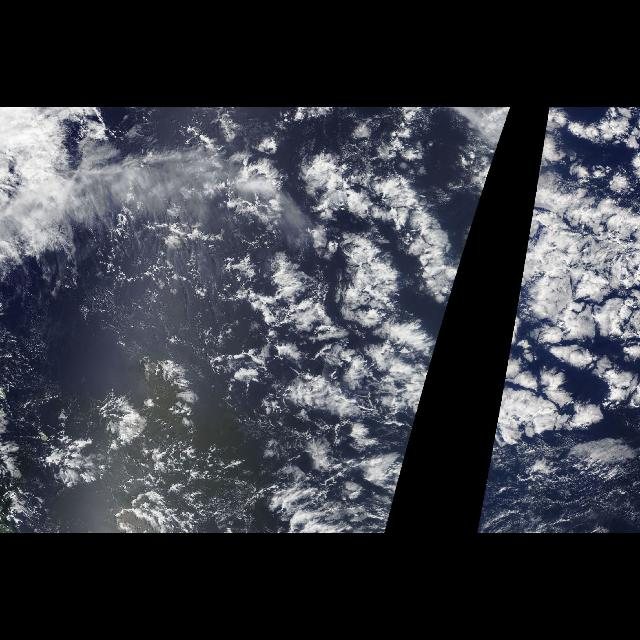Flower: (205, 114, 509, 443), (492, 114, 640, 443)
Sugar: (240, 165, 492, 479), (485, 165, 567, 479)
